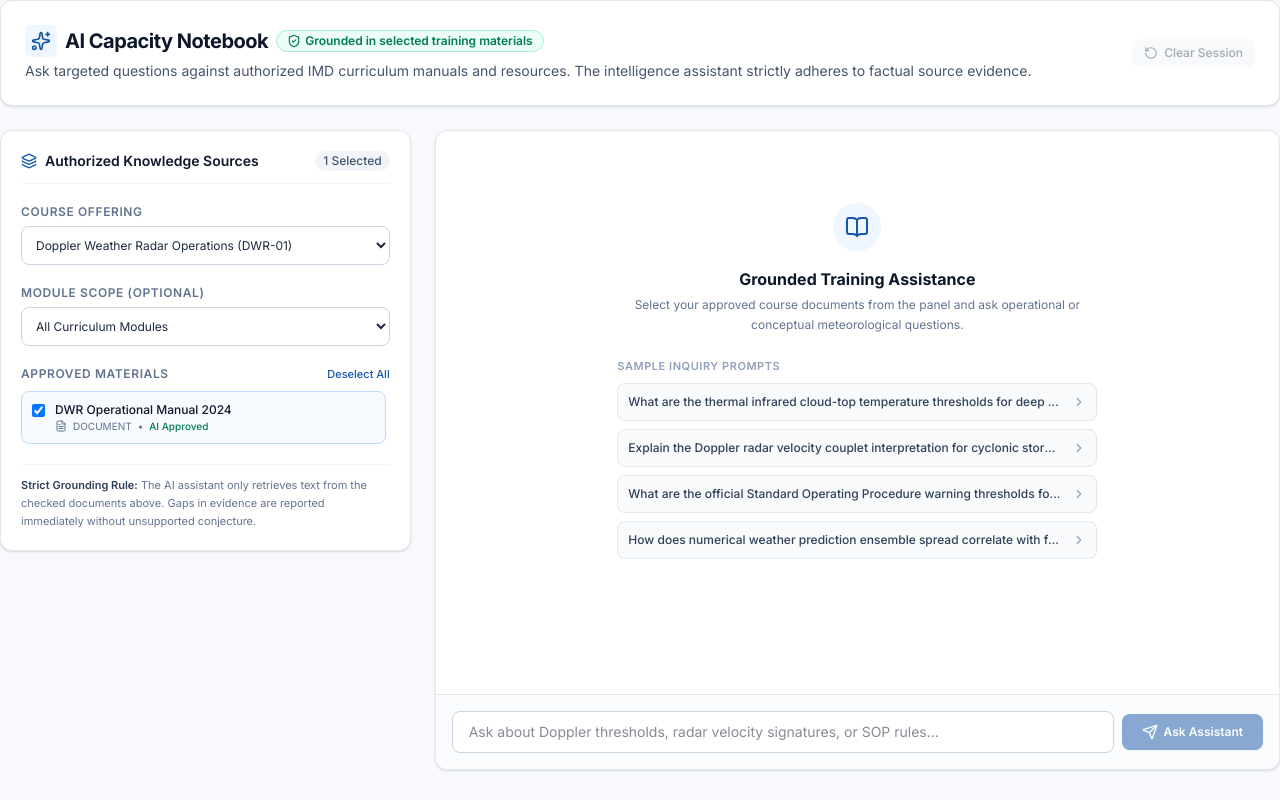
Test: Phase 7: Grounded AI Intelligence Layer - Frontend Suite › FLOW 1 Refusal: Trainee AI Notebook displays refusal banner when evidence is insufficient
Expected: the text "DWR Operational Manual 2024" is shown, x1=55 y1=402 x2=232 y2=416
Replace the text in the field with placeholder "Ask about Doppler thresholds" with "What is the capital of Mars?" at {"x": 783, "y": 732}, box x1=452 y1=711 x2=1114 y2=753
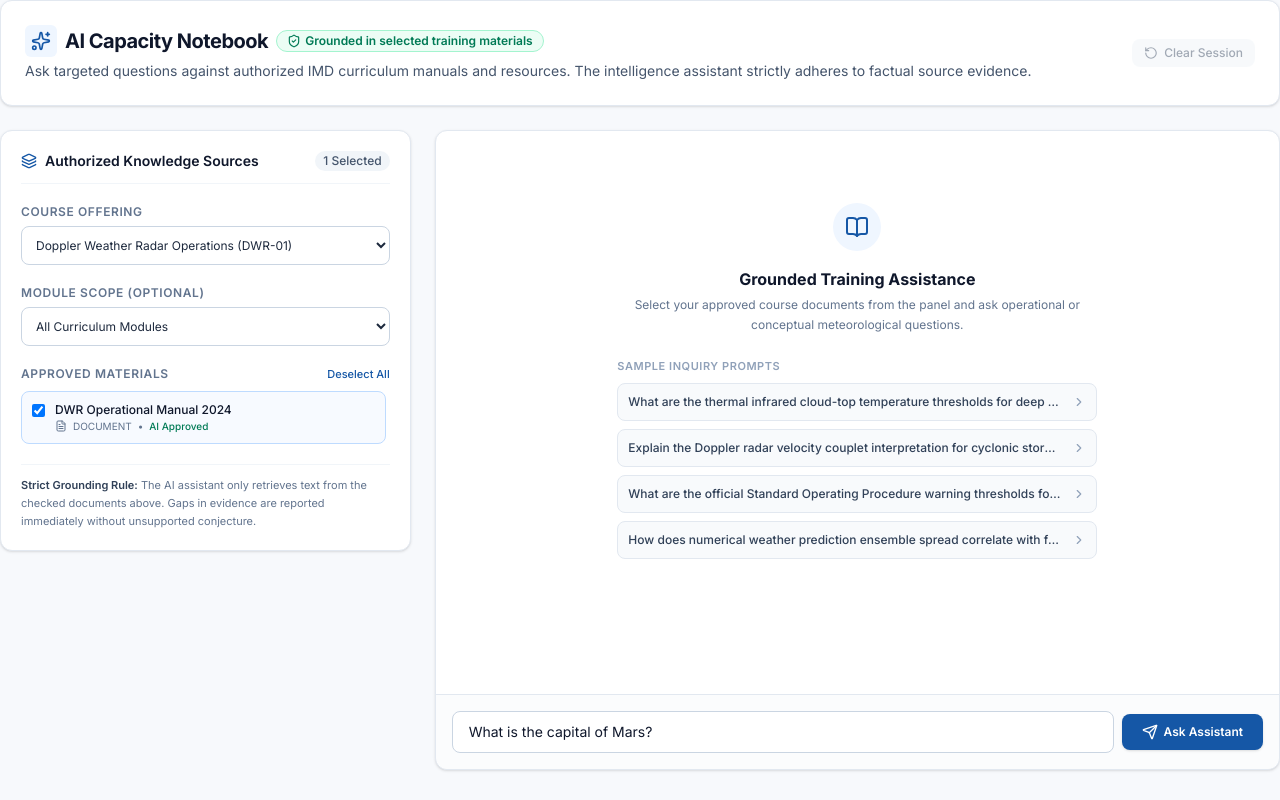
Submit the form with placeholder "Ask about Doppler thresholds", box x1=452 y1=711 x2=1263 y2=753
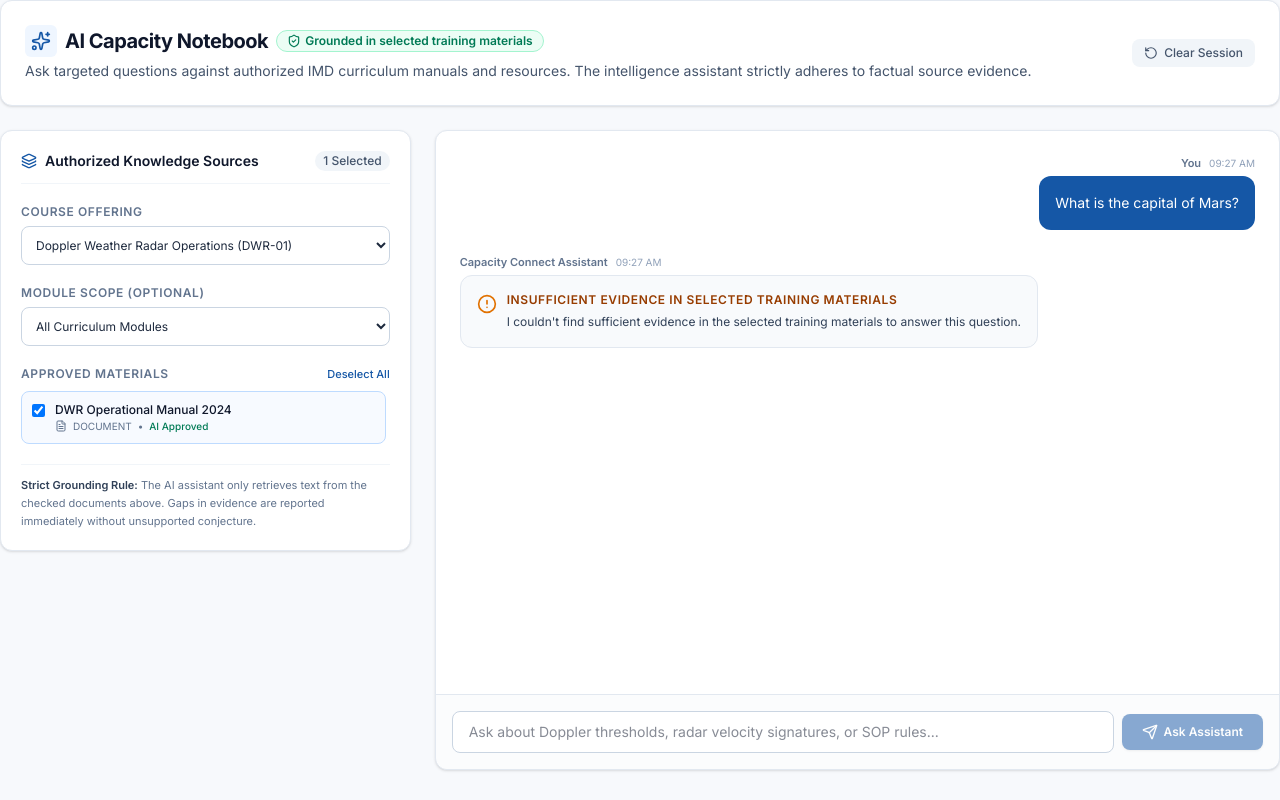
Result: the text "Insufficient evidence in selected training materials" is shown at x1=507 y1=292 x2=898 y2=307
Result: the text "I couldn't find sufficient evidence in the selected training materials to answer this question" is shown at x1=507 y1=314 x2=1021 y2=329
